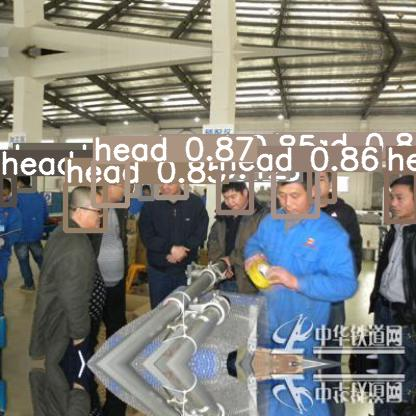head: (273, 157, 317, 216), (65, 183, 105, 230), (386, 171, 416, 221), (93, 161, 127, 205), (218, 171, 251, 212), (156, 159, 186, 197), (309, 160, 334, 201), (13, 168, 34, 190), (0, 175, 14, 204), (139, 181, 153, 198), (126, 179, 137, 195)
